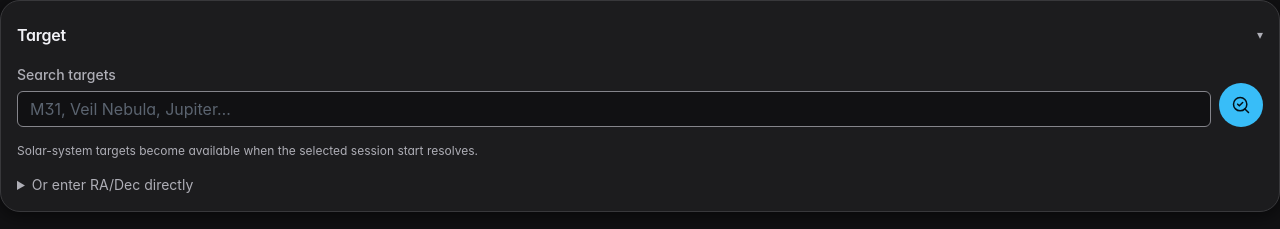
TargetPicker › supports arrow-key selection
Type "Andr" into the dropdown labelled "Search targets" at (614, 109), box [17,91,1211,127]
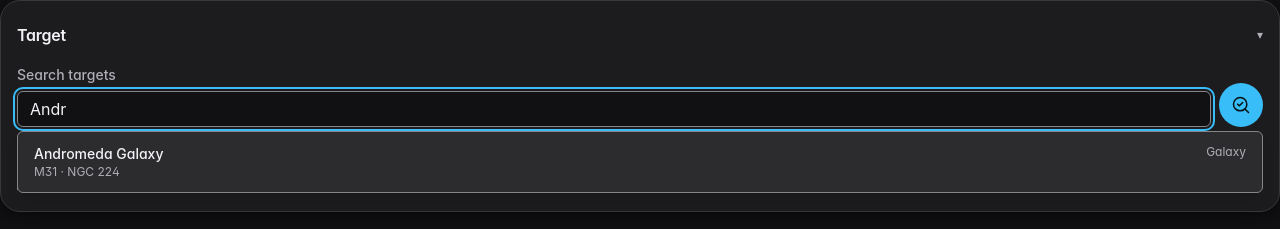
Now the option "Andromeda Galaxy M31 · NGC 224 Galaxy" is shown, box [22,136,1258,188]
Press Arrowdown Enter
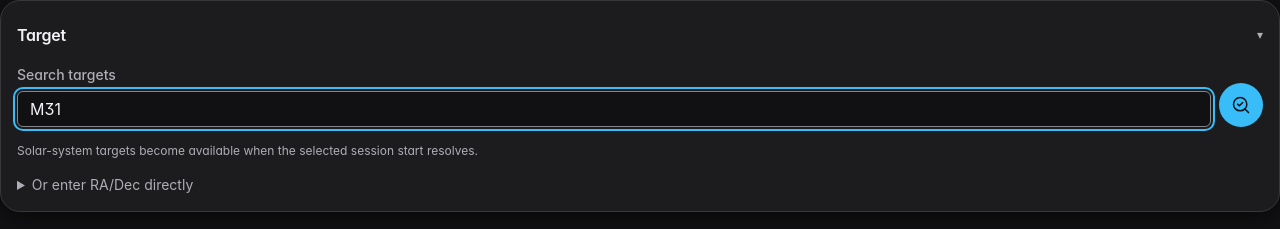
Now the dropdown labelled "Search targets" holds "M31", box [17,91,1211,127]
Now the dropdown labelled "Search targets" is collapsed, box [17,91,1211,127]
